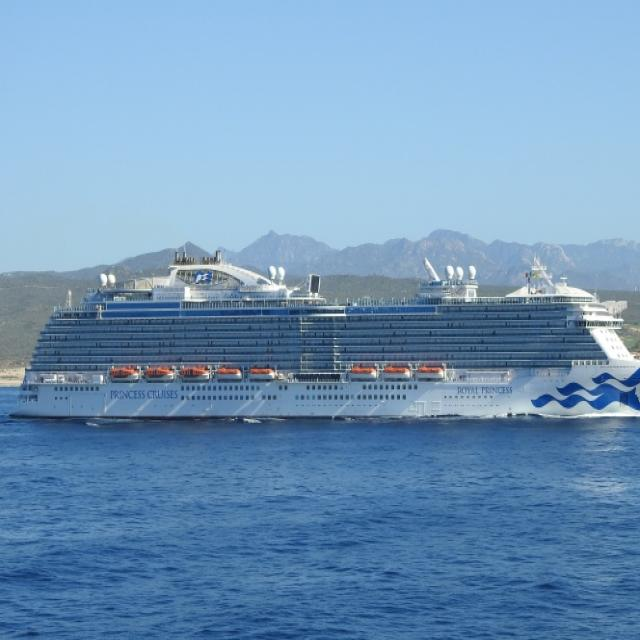cruises: (15, 253, 640, 425)
